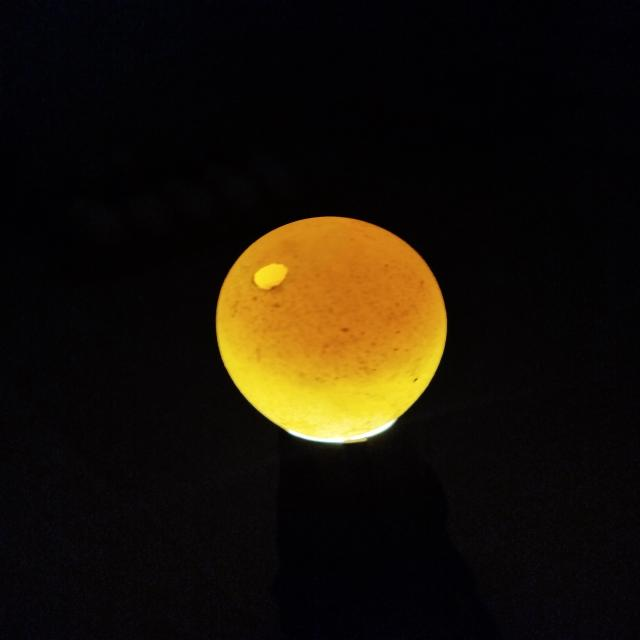Rachadura: (253, 263, 288, 290)
